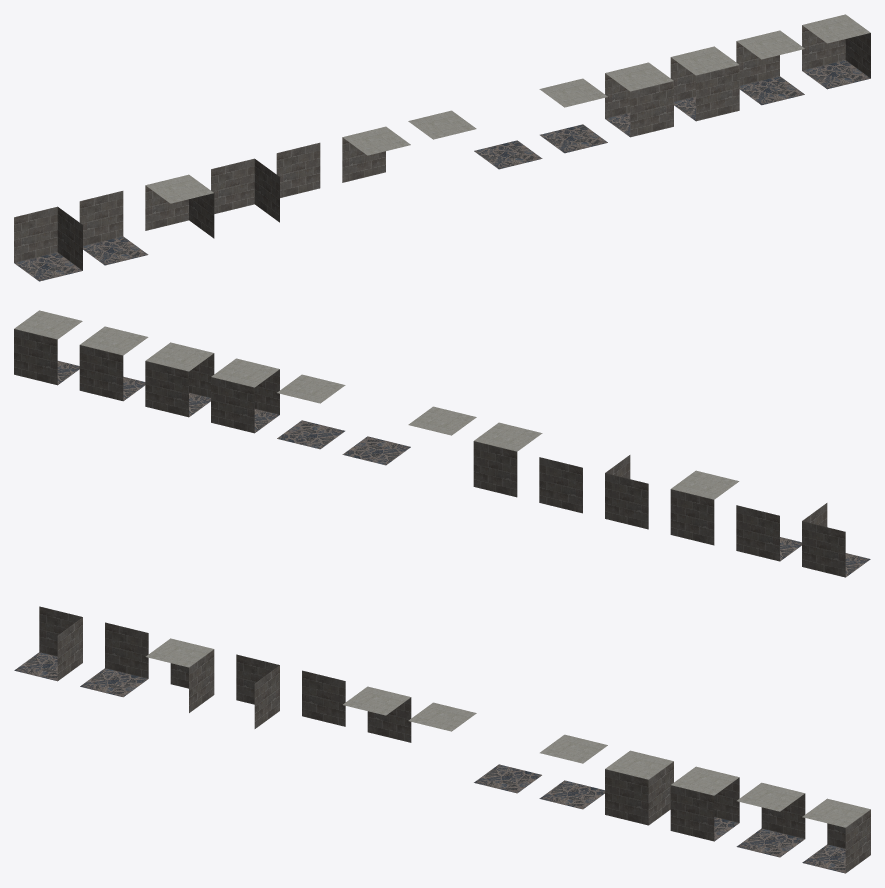
The model's file is BasicSetNoUV.glb.
3 views of the same model, one above another, from view 1: azimuth 30°, elevation 25°; view 2: azimuth 150°, elevation 25°; view 3: azimuth 330°, elevation 25° (orthographic).
Visible parts, largest first — view 1: CornerNoCeiling-col, ThreeWalls-col, Corner-col, TwoWall-col, OneWall-col, CornerNoFloor-col, CornerOnly-col, OneWallNoCeiling-col, WallCeiling-col, NoWall-col, WallOnly-col, FloorOnly-col (+1 smaller); view 2: ThreeWalls-col, TwoWall-col, OneWall-col, Corner-col, WallCeiling-col, CornerNoFloor-col, CornerNoCeiling-col, CornerOnly-col, OneWallNoCeiling-col, NoWall-col, WallOnly-col, FloorOnly-col (+1 smaller); view 3: TwoWall-col, ThreeWalls-col, OneWall-col, Corner-col, CornerNoCeiling-col, OneWallNoCeiling-col, CornerNoFloor-col, WallCeiling-col, CornerOnly-col, NoWall-col, WallOnly-col, FloorOnly-col (+1 smaller).
Boxes of the visible parts, x1=… form: CornerNoCeiling-col: x1=14, y1=206, x2=82, y2=281; ThreeWalls-col: x1=605, y1=62, x2=673, y2=137; Corner-col: x1=802, y1=14, x2=870, y2=89; TwoWall-col: x1=670, y1=46, x2=739, y2=121; OneWall-col: x1=736, y1=30, x2=804, y2=105; CornerNoFloor-col: x1=145, y1=174, x2=214, y2=238; CornerOnly-col: x1=211, y1=158, x2=279, y2=222; OneWallNoCeiling-col: x1=79, y1=191, x2=148, y2=265; WallCeiling-col: x1=342, y1=126, x2=410, y2=182; NoWall-col: x1=539, y1=78, x2=607, y2=153; WallOnly-col: x1=276, y1=142, x2=320, y2=197; FloorOnly-col: x1=474, y1=140, x2=542, y2=169; ThreeWalls-col: x1=211, y1=358, x2=279, y2=433; TwoWall-col: x1=145, y1=342, x2=214, y2=417; OneWall-col: x1=79, y1=326, x2=148, y2=401; Corner-col: x1=14, y1=310, x2=82, y2=385; WallCeiling-col: x1=473, y1=422, x2=542, y2=497; CornerNoFloor-col: x1=670, y1=470, x2=739, y2=545; CornerNoCeiling-col: x1=802, y1=503, x2=870, y2=577; CornerOnly-col: x1=605, y1=455, x2=648, y2=529; OneWallNoCeiling-col: x1=736, y1=505, x2=801, y2=561; NoWall-col: x1=277, y1=374, x2=345, y2=449; WallOnly-col: x1=539, y1=457, x2=582, y2=513; FloorOnly-col: x1=342, y1=436, x2=410, y2=465; TwoWall-col: x1=670, y1=766, x2=739, y2=841; ThreeWalls-col: x1=605, y1=750, x2=673, y2=825; OneWall-col: x1=736, y1=782, x2=805, y2=857; Corner-col: x1=802, y1=798, x2=870, y2=873; CornerNoCeiling-col: x1=14, y1=606, x2=82, y2=681; OneWallNoCeiling-col: x1=80, y1=622, x2=148, y2=697; CornerNoFloor-col: x1=145, y1=638, x2=214, y2=712; WallCeiling-col: x1=343, y1=686, x2=411, y2=742; CornerOnly-col: x1=236, y1=654, x2=279, y2=728; NoWall-col: x1=539, y1=734, x2=607, y2=809; WallOnly-col: x1=302, y1=670, x2=345, y2=726; FloorOnly-col: x1=474, y1=764, x2=541, y2=793.
Size of the model in its own units: 38 by 2 by 2.
Materials: 1 (1 with a texture image).
